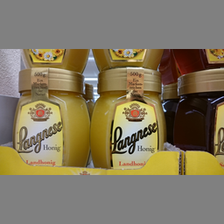honey: (91, 68, 164, 170), (15, 68, 89, 167)
